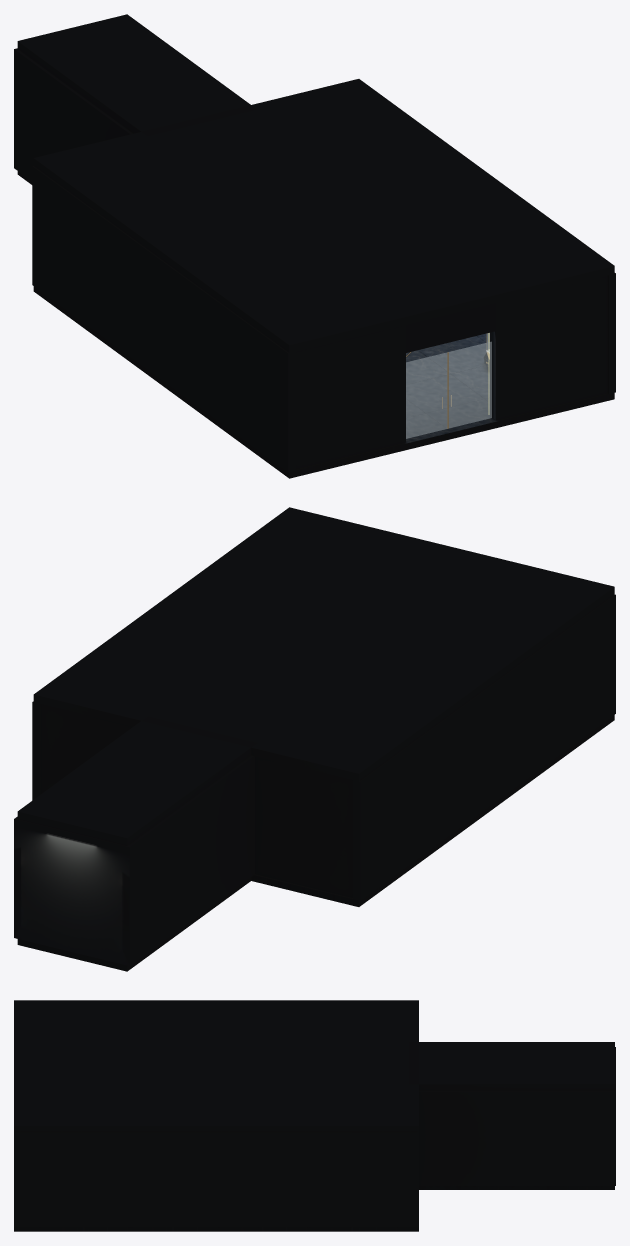
File: museum_R18.glb
3 renders of one model, top to bottom at view 1: azimuth 30°, elevation 25°; view 2: azimuth 150°, elevation 25°; view 3: azimuth 270°, elevation 25°, orthographic. The views are drawn at different scales.
Visible parts, largest first — view 1: R14_Baked_Architecture, Web_R14_Sliding glass door Right, Web_R14_Sliding glass door Left; view 2: R14_Baked_Architecture; view 3: R14_Baked_Architecture.
Part boxes in pixels (left/top/right/bottom): R14_Baked_Architecture: left=14, top=14, right=615, bottom=478; Web_R14_Sliding glass door Right: left=448, top=342, right=491, bottom=427; Web_R14_Sliding glass door Left: left=406, top=352, right=447, bottom=438; R14_Baked_Architecture: left=14, top=507, right=615, bottom=971; R14_Baked_Architecture: left=14, top=1000, right=615, bottom=1231.
Size of the model in its own units: 16.72 by 6.5 by 33.6.
19 materials, 6 textured.
